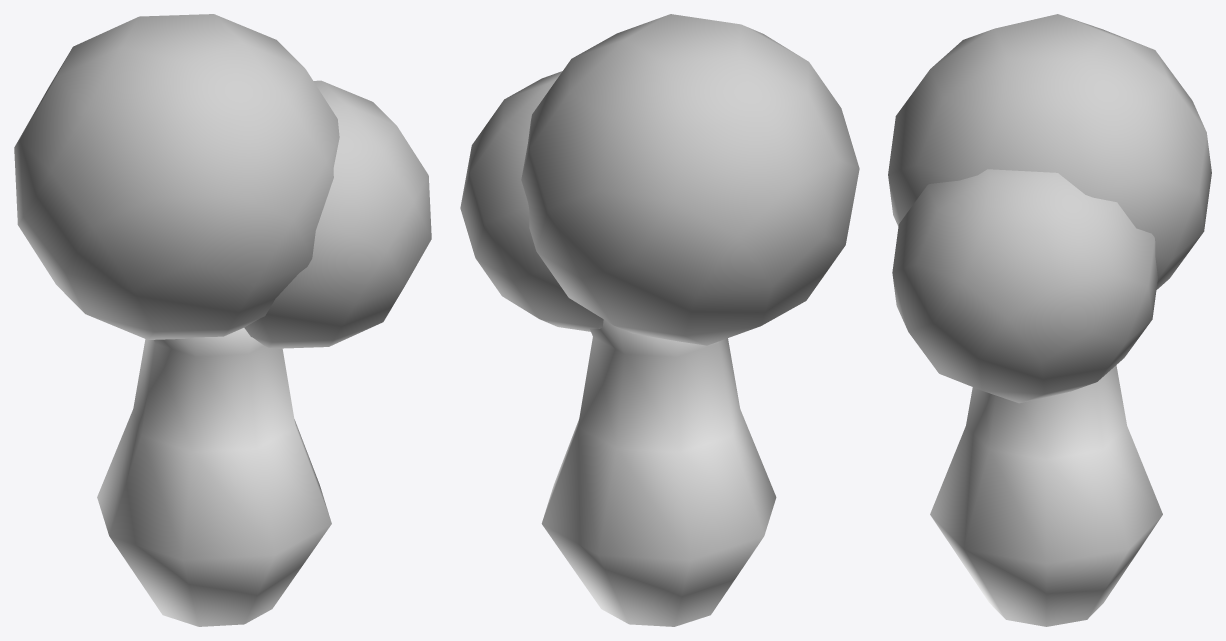
Rendered from tree_01.obj.
The picture shows the model from 3 angles, left to right: view 1: azimuth 30°, elevation 25°; view 2: azimuth 150°, elevation 25°; view 3: azimuth 270°, elevation 25°; orthographic projection. The views are drawn at different scales.
Parts seen in each view (by area): view 1: Icosphere.001, Cylinder, Icosphere.002; view 2: Icosphere.001, Cylinder, Icosphere.002; view 3: Icosphere.001, Icosphere.002, Cylinder.
Part boxes in pixels (bbox=[...]): Icosphere.001: bbox=[14, 14, 339, 339]; Cylinder: bbox=[97, 328, 331, 626]; Icosphere.002: bbox=[244, 80, 431, 348]; Icosphere.001: bbox=[521, 14, 859, 345]; Cylinder: bbox=[541, 319, 776, 626]; Icosphere.002: bbox=[460, 71, 603, 331]; Icosphere.001: bbox=[888, 14, 1211, 289]; Icosphere.002: bbox=[892, 169, 1157, 403]; Cylinder: bbox=[930, 365, 1162, 626].
Bounding box in the file's own units: 6.96 × 10.32 × 5.53.
